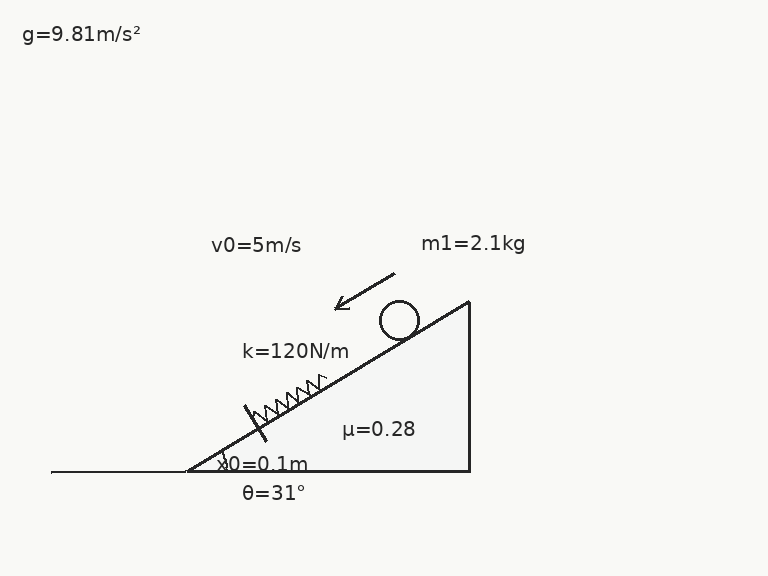ball: (377, 298, 421, 342)
ramp: (185, 299, 472, 473)
spring: (251, 372, 329, 423)
